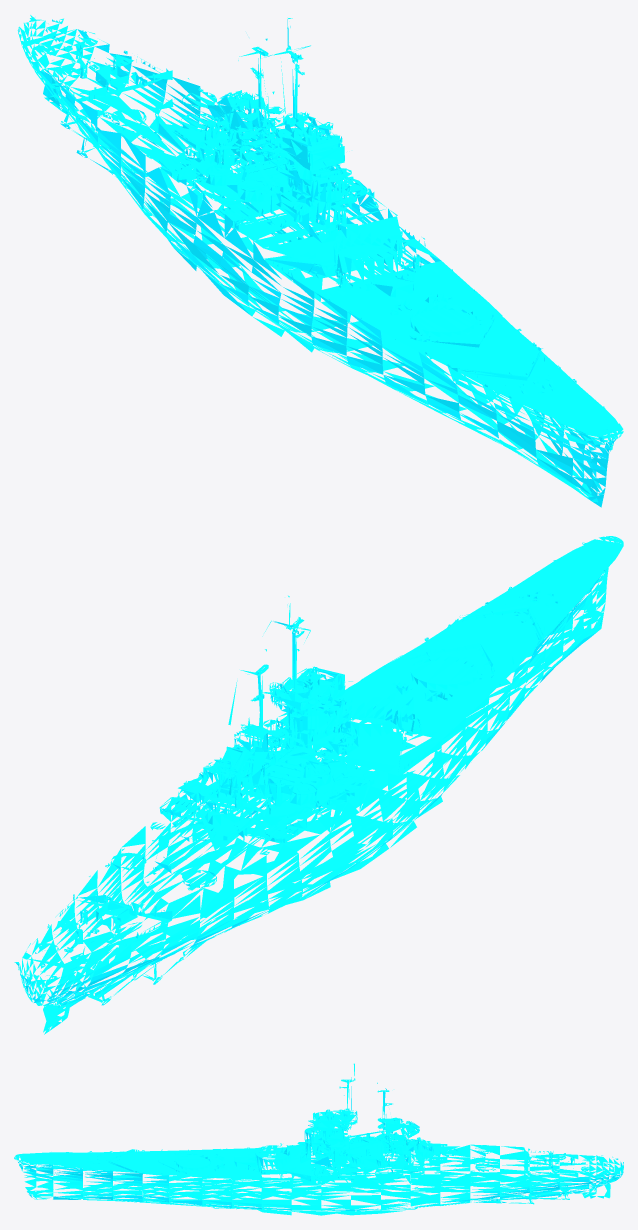
File: Pirate_Jean_Bart.glb
3 renders of one model, top to bottom at view 1: azimuth 30°, elevation 25°; view 2: azimuth 150°, elevation 25°; view 3: azimuth 270°, elevation 25°, orthographic. The views are drawn at different scales.
Bounding box in the file's own units: 2.36 × 4.07 × 16.52.
